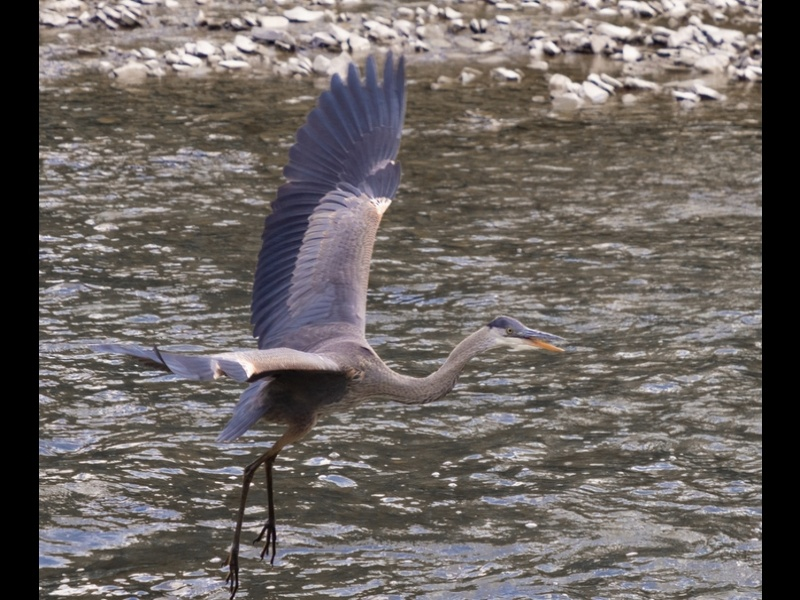heron: (112, 48, 567, 588)
